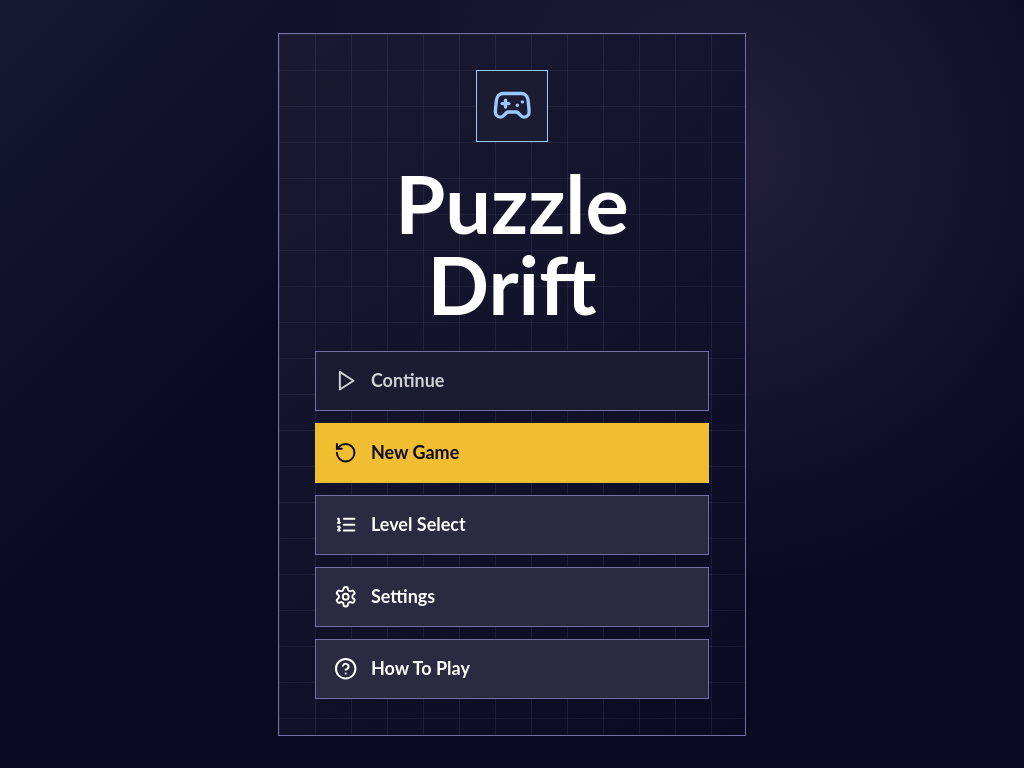
Scenario: App › opens the settings screen after clicking Settings
Click the button "Settings": click(403, 596) [315,567,709,626]
(page scrolled)
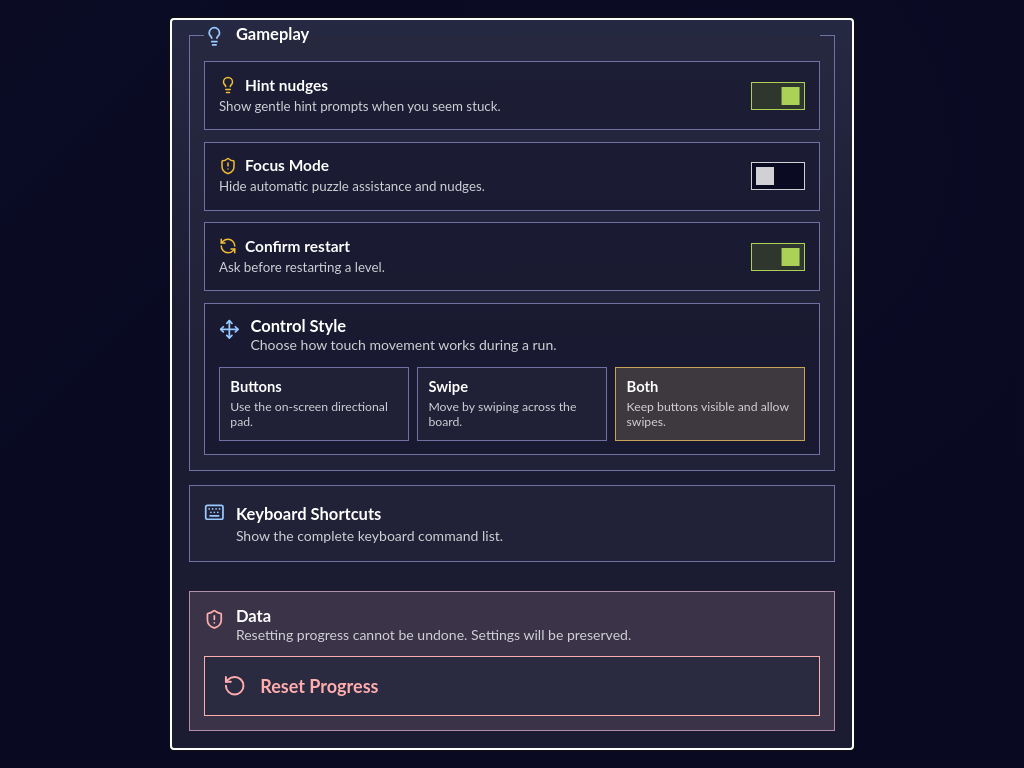
Expected: the dialog "Settings" is shown
Expected: the checkbox labelled "Hint nudges Show gentle hint prompts when you seem stuck." is shown, [204,61,820,130]
Expected: the checkbox labelled "Focus Mode Hide automatic puzzle assistance and nudges." is shown, [204,142,820,211]
